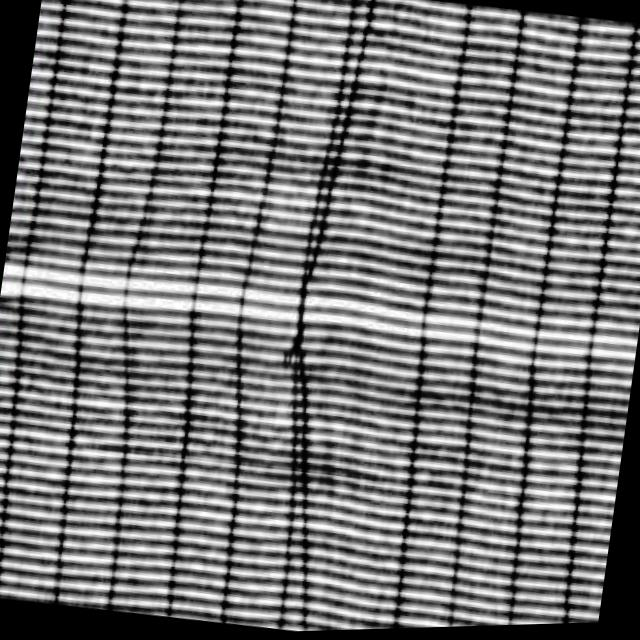Stitch: (242, 159, 377, 482)
